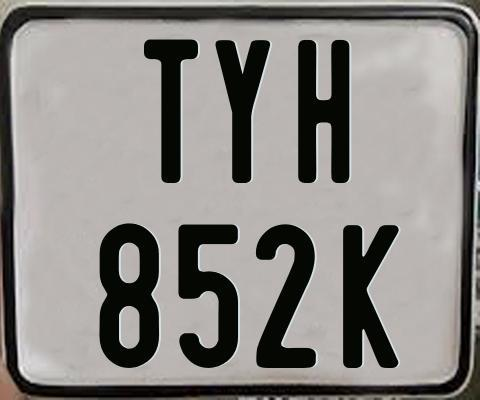2: (253, 224, 318, 374)
5: (176, 223, 236, 370)
8: (99, 222, 160, 373)
H: (296, 40, 353, 186)
K: (340, 222, 399, 366)
T: (143, 37, 198, 187)
Y: (214, 38, 271, 182)
